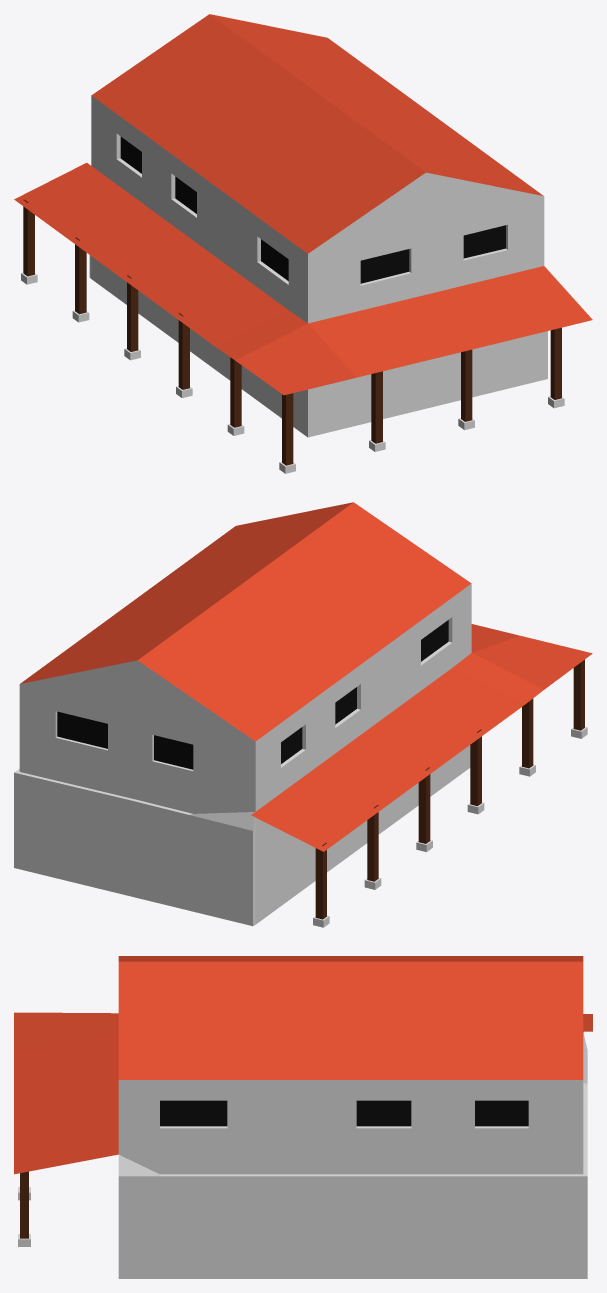
File: Haus_2.fbx
3 views of the same model, one above another, from view 1: azimuth 30°, elevation 25°; view 2: azimuth 150°, elevation 25°; view 3: azimuth 270°, elevation 25° (orthographic). The views are drawn at different scales.
Visible parts, largest first — view 1: Cube.387, Cube.389, Cube.388; view 2: Cube.387, Cube.389; view 3: Cube.387, Cube.388.
Part boxes in pixels (box(x1,y1,x2,y2)): Cube.387: box(14, 14, 592, 437); Cube.389: box(21, 199, 295, 465); Cube.388: box(279, 327, 564, 473); Cube.387: box(14, 502, 592, 926); Cube.389: box(313, 659, 585, 927); Cube.387: box(14, 956, 592, 1278); Cube.388: box(18, 1171, 30, 1246).
Bounding box in the file's own units: 2432 × 1755 × 3633.
